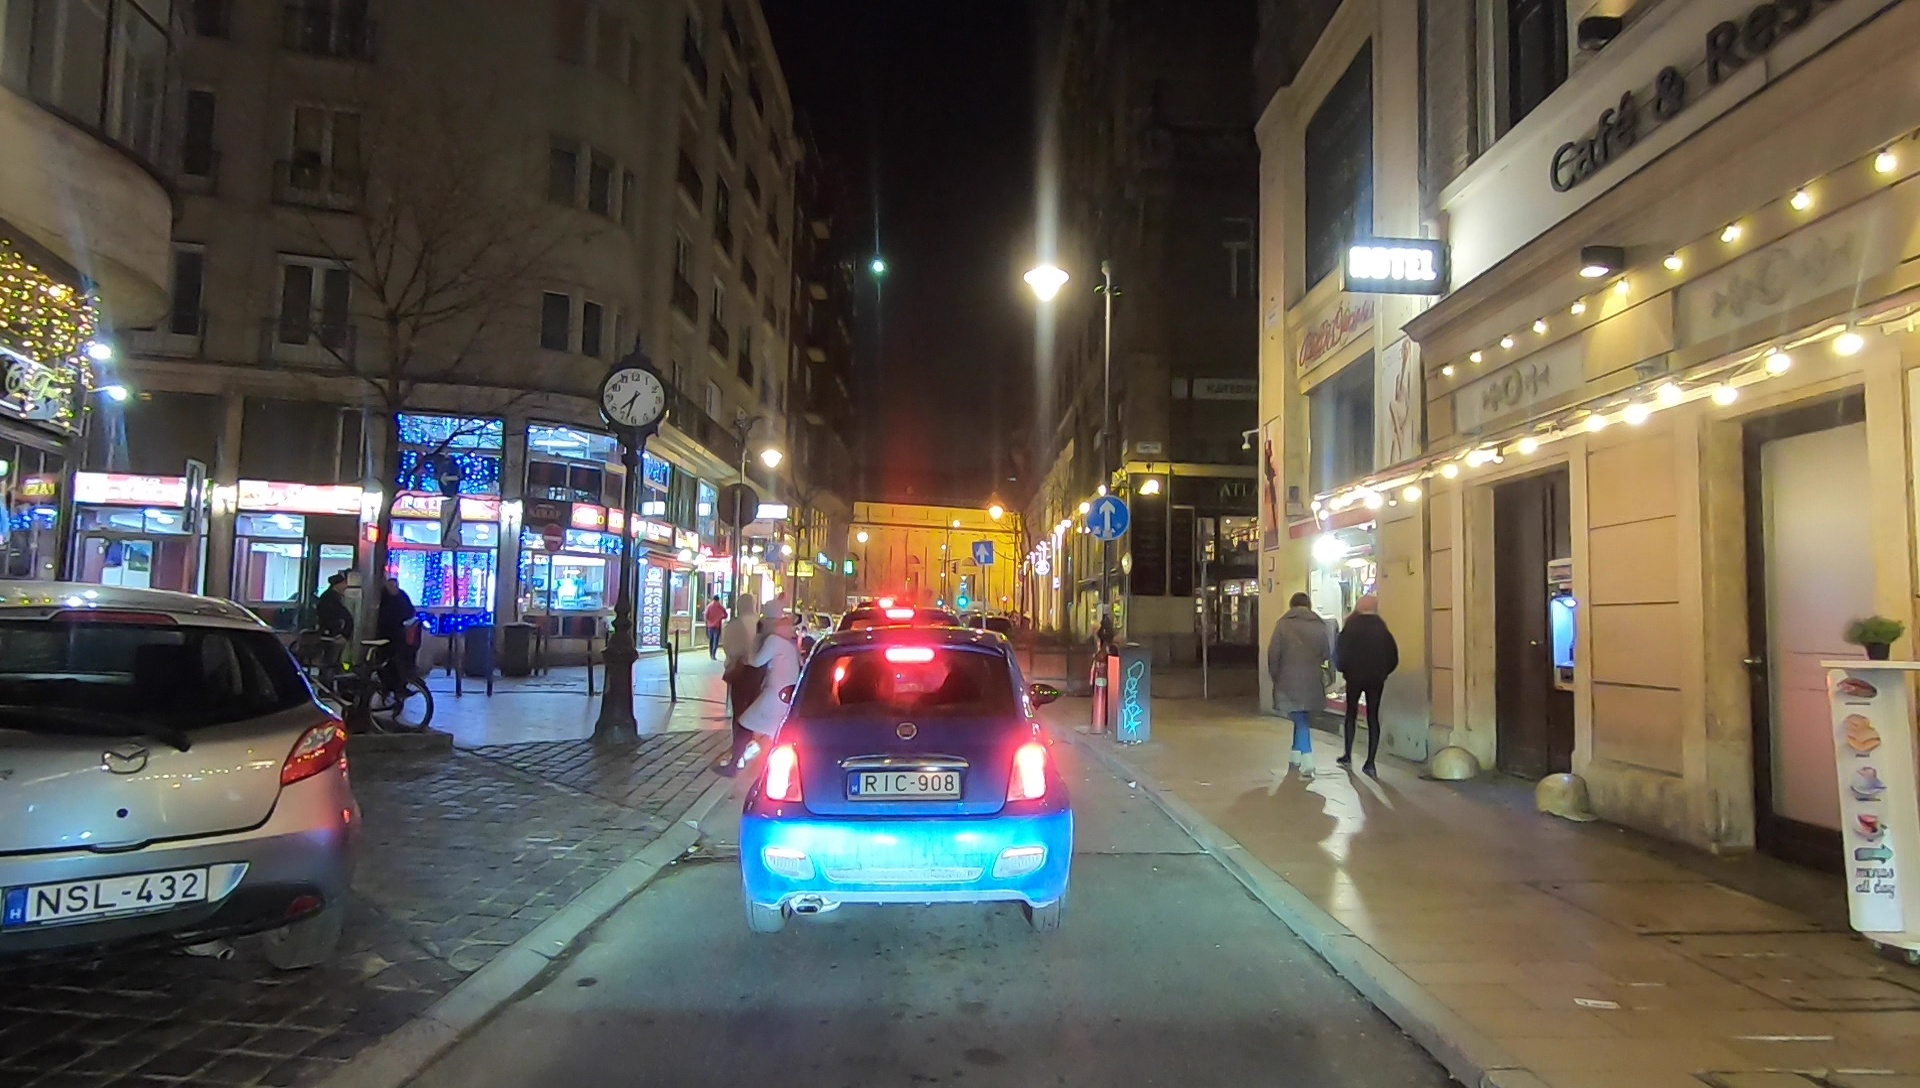person: (723, 602, 802, 797), (1267, 591, 1332, 782), (1339, 599, 1399, 776), (721, 593, 762, 767), (375, 574, 414, 704), (317, 574, 354, 687), (704, 593, 721, 660), (1097, 615, 1114, 680)
